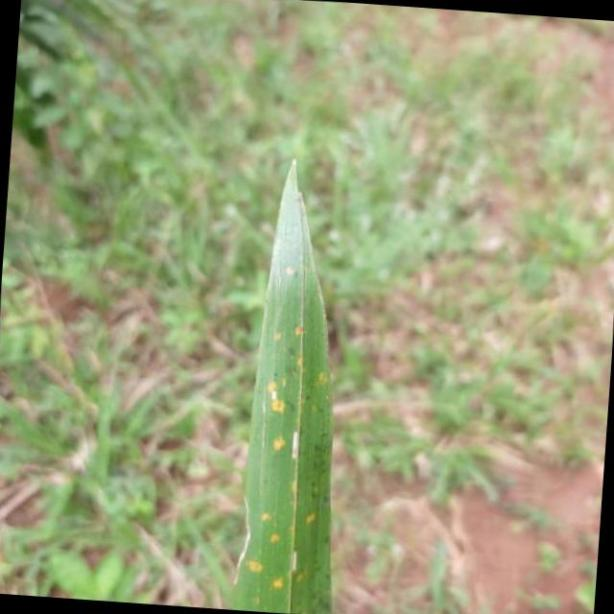Kalium: (235, 134, 339, 614)
